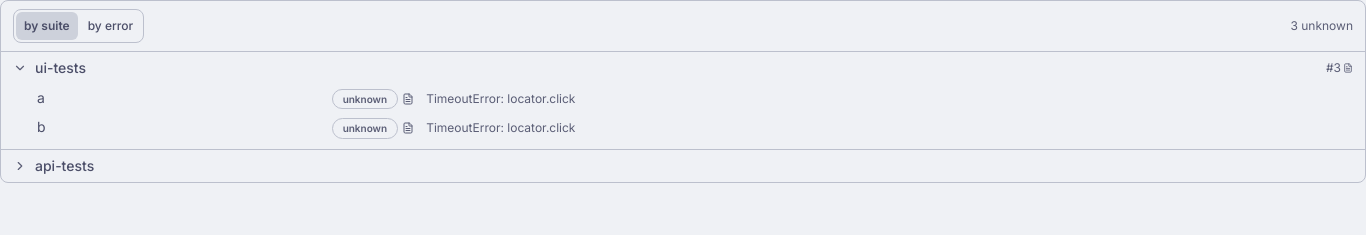
it: RunFailures › grouping › groups by suite by default, opening only the first group until one is clicked
Expected: the number of elements with test id "run-failure-group" is 2, [1,52,1365,150]; [1,150,1365,182]
Expected: the text "ui-tests" is shown, [35,58,86,78]
Click the button "api-tests" at (65, 165), box [13,156,1353,176]
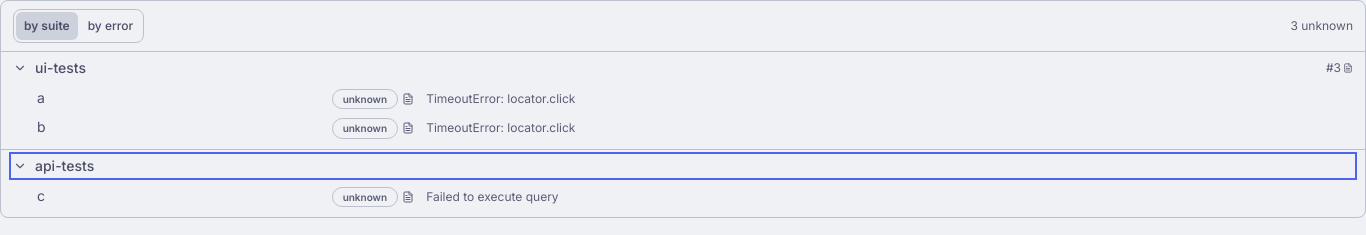
Expected: the link "c" is shown, [37,187,45,204]
